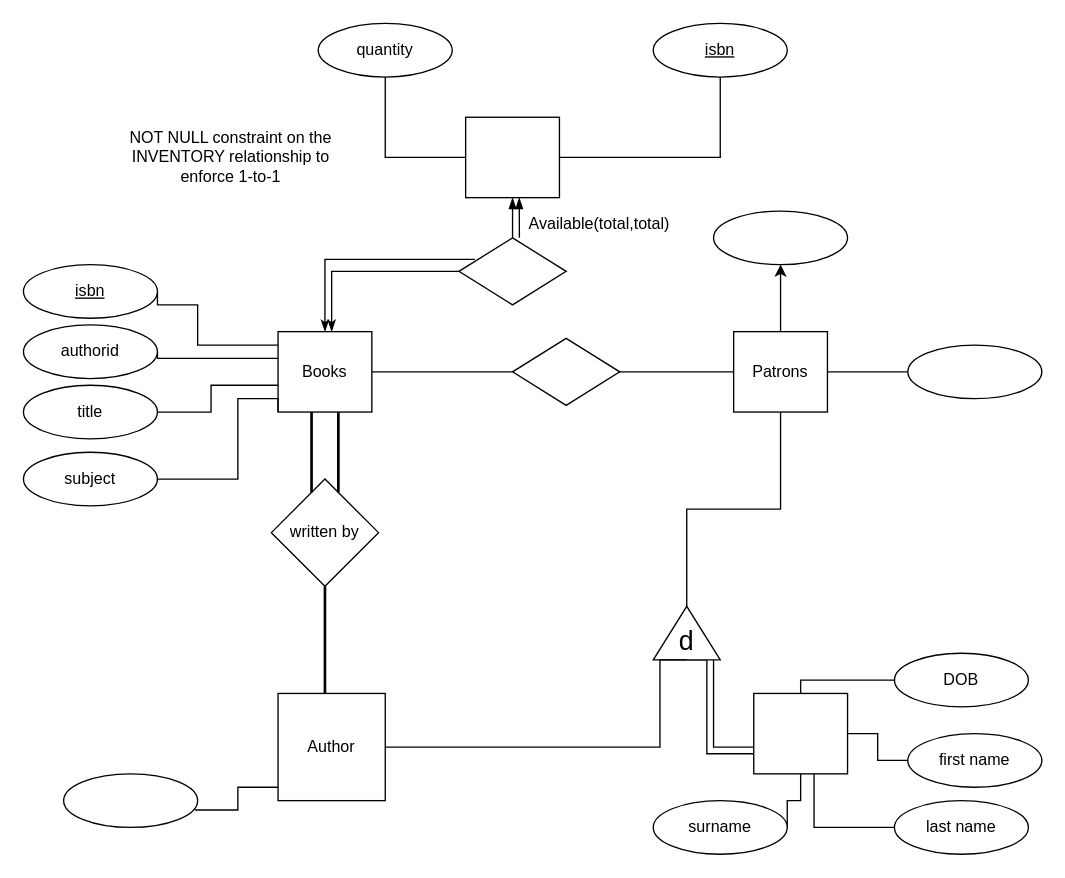
Some shapes in this 1065 by 878 pixel diagram are drawn without their labels. Here are the shapes that lost their labels. From the top down, the centre of each, then its label:
At pixel 511 157: "Inventory".
At pixel 780 237: "is_admin".
At pixel 512 271: "available".
At pixel 565 371: "borrow".
At pixel 974 371: "email".
At pixel 800 733: "Person".
At pixel 130 800: "Author_ID".
